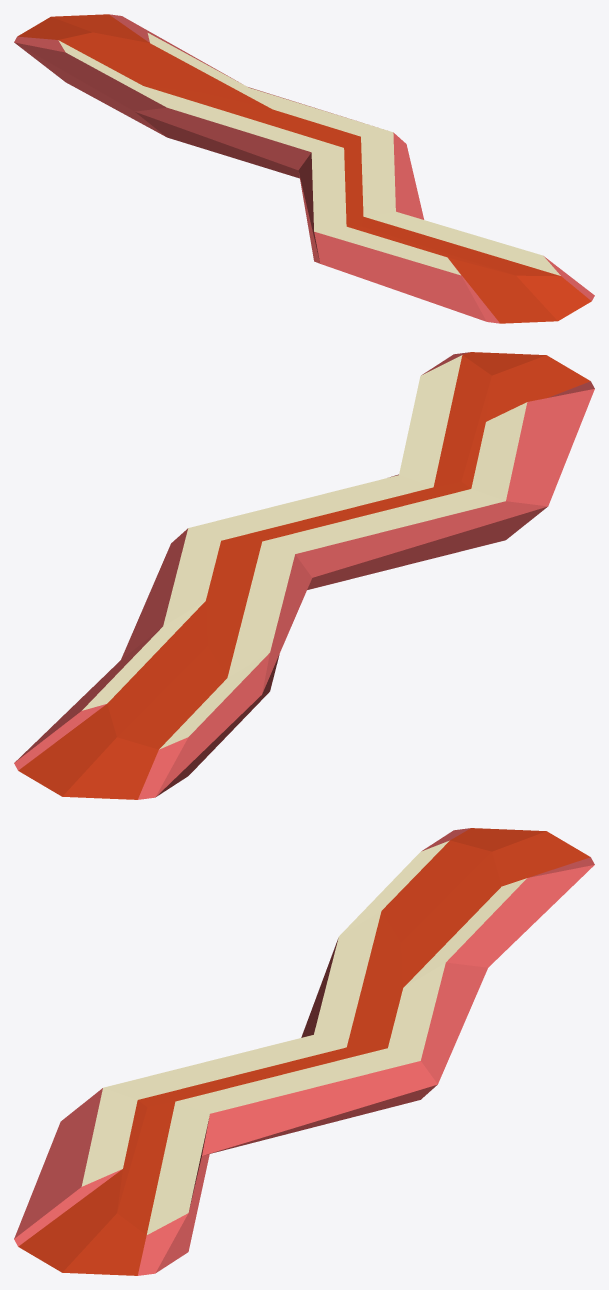
The model's file is Raw Bacon.fbx.
3 renders of one model, top to bottom at view 1: azimuth 30°, elevation 25°; view 2: azimuth 150°, elevation 25°; view 3: azimuth 330°, elevation 25°, orthographic. The views are drawn at different scales.
Visible parts, largest first — view 1: Raw Bacon; view 2: Raw Bacon; view 3: Raw Bacon.
Part boxes in pixels (x1,y1,x2,y2): Raw Bacon: (14,14,594,323); Raw Bacon: (14,352,594,799); Raw Bacon: (14,828,594,1275).
Size of the model in its own units: 4.68 by 0.7021 by 18.7.
